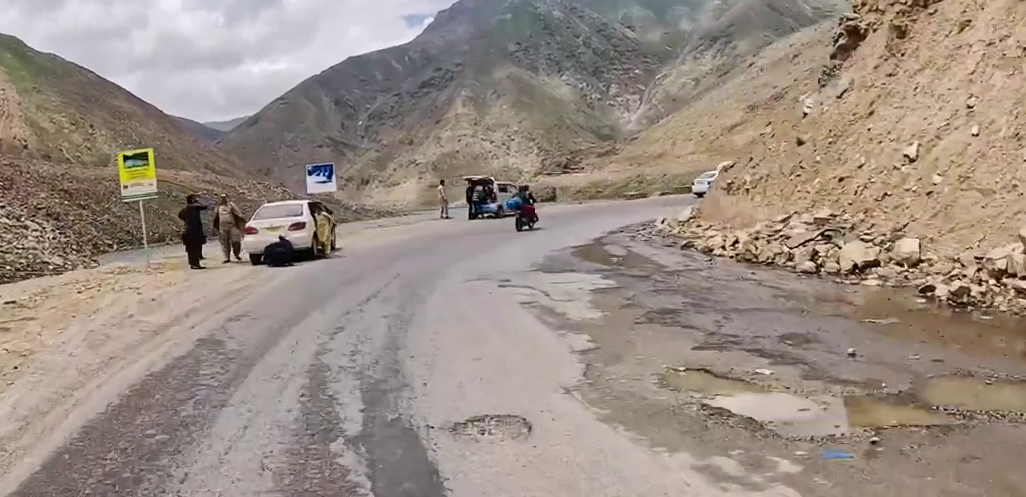unexpected: (579, 195, 1026, 407)
